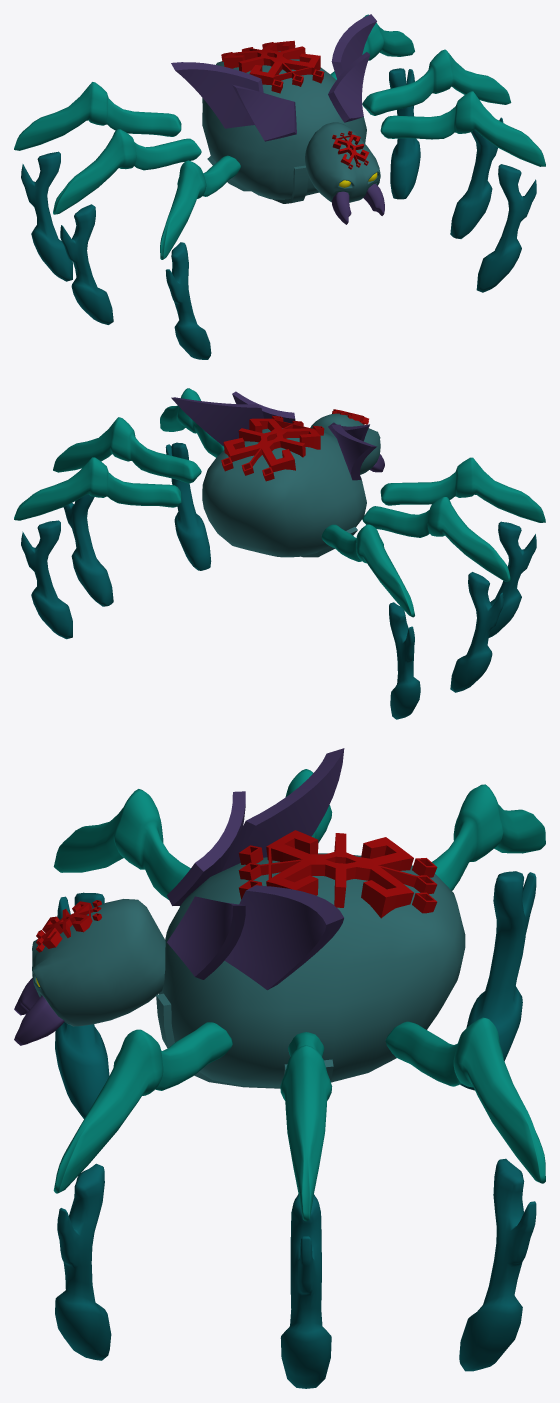
Rendered from Spider_model.fbx.
3 views of the same model, one above another, from view 1: azimuth 30°, elevation 25°; view 2: azimuth 150°, elevation 25°; view 3: azimuth 270°, elevation 25° (orthographic). The views are drawn at different scales.
Parts seen in each view (by area): view 1: body, pCube35, pCube39, pCube38, pCube36, pCube40, head, pCube37, pCube22, pCube13, pCube19, pCube18 (+4 smaller); view 2: body, pCube37, pCube38, pCube36, pCube40, pCube39, pCube13, pCube35, pCube21, pCube22, head, pCube18; view 3: body, pCube37, pCube35, pCube36, head, pCube39, pCube40, pCube13, pCube21, pCube22, pCube18, pCube19 (+2 smaller).
Part boxes in pixels (x1=…): body: x1=202, y1=51, x2=366, y2=203; pCube35: x1=380, y1=91, x2=545, y2=292; pCube39: x1=14, y1=82, x2=181, y2=281; pCube38: x1=53, y1=129, x2=201, y2=324; pCube36: x1=362, y1=49, x2=511, y2=238; pCube40: x1=160, y1=155, x2=240, y2=359; head: x1=305, y1=122, x2=380, y2=202; pCube37: x1=330, y1=14, x2=420, y2=199; pCube22: x1=171, y1=62, x2=263, y2=128; pCube13: x1=221, y1=40, x2=324, y2=93; pCube19: x1=232, y1=84, x2=296, y2=141; pCube18: x1=328, y1=52, x2=369, y2=122; body: x1=202, y1=428, x2=366, y2=557; pCube37: x1=14, y1=457, x2=181, y2=639; pCube38: x1=362, y1=497, x2=511, y2=692; pCube36: x1=53, y1=417, x2=201, y2=606; pCube40: x1=380, y1=457, x2=545, y2=637; pCube39: x1=321, y1=524, x2=420, y2=719; pCube13: x1=221, y1=415, x2=324, y2=481; pCube35: x1=160, y1=388, x2=224, y2=570; pCube21: x1=171, y1=397, x2=263, y2=446; pCube22: x1=332, y1=424, x2=376, y2=480; head: x1=310, y1=413, x2=380, y2=474; pCube18: x1=232, y1=391, x2=295, y2=423; body: x1=156, y1=853, x2=465, y2=1088; pCube37: x1=385, y1=1017, x2=545, y2=1371; pCube35: x1=53, y1=1022, x2=232, y2=1360; pCube36: x1=280, y1=1032, x2=332, y2=1388; head: x1=32, y1=899, x2=165, y2=1026; pCube39: x1=432, y1=784, x2=545, y2=1090; pCube40: x1=53, y1=789, x2=190, y2=1118; pCube13: x1=238, y1=830, x2=437, y2=918; pCube21: x1=224, y1=885, x2=343, y2=990; pCube22: x1=221, y1=748, x2=344, y2=871; pCube18: x1=167, y1=896, x2=245, y2=979; pCube19: x1=167, y1=791, x2=245, y2=905.
Size of the model in its own units: 27.18 by 13.34 by 15.8.
